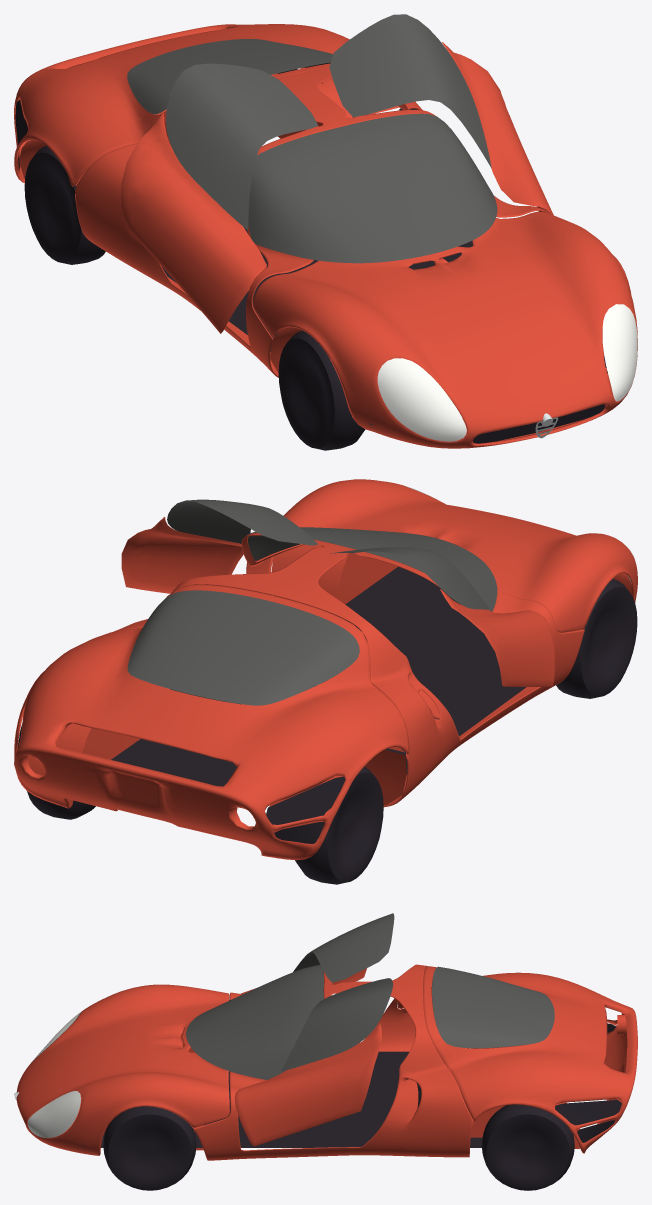
File: AlfaRomeo_ThreeJS_Animation.gltf
The picture shows the model from 3 angles, top to bottom: view 1: azimuth 30°, elevation 25°; view 2: azimuth 150°, elevation 25°; view 3: azimuth 270°, elevation 25°; orthographic projection. The views are drawn at different scales.
Visible parts, largest first — view 1: Car_Body, Glass, Body_doors_2, Glass_doors_01_2, Tires, Glass_doors_01, Body_doors, Vent_Pannel, Wheel_arch; view 2: Car_Body, Glass, Vent_Pannel, Tires, Wheel_arch, Body_doors, Body_doors_2, Glass_doors_01, Glass_doors_01_2; view 3: Car_Body, Glass, Tires, Body_doors, Vent_Pannel, Glass_doors_01, Glass_doors_01_2, Wheel_arch.
Part boxes in pixels (x1,y1,x2,y2): Car_Body: (14,24,637,448); Glass: (127,39,637,441); Body_doors_2: (121,112,266,333); Glass_doors_01_2: (166,63,318,230); Tires: (24,113,607,450); Glass_doors_01: (329,14,491,167); Body_doors: (442,42,553,215); Vent_Pannel: (15,62,606,443); Wheel_arch: (19,78,614,378); Car_Body: (14,479,637,860); Glass: (127,486,635,705); Vent_Pannel: (17,566,526,843); Tires: (27,579,637,884); Wheel_arch: (27,545,631,858); Body_doors: (121,517,243,593); Body_doors_2: (440,589,555,686); Glass_doors_01: (167,499,318,545); Glass_doors_01_2: (330,547,489,609); Car_Body: (16,964,637,1160); Glass: (27,965,554,1137); Tires: (103,1104,574,1190); Body_doors: (234,1023,381,1146); Vent_Pannel: (82,987,621,1147); Glass_doors_01: (281,978,393,1071); Glass_doors_01_2: (293,913,394,982); Wheel_arch: (101,1043,580,1150).
Bounding box in the file's own units: 2.07 × 1.32 × 3.95.
